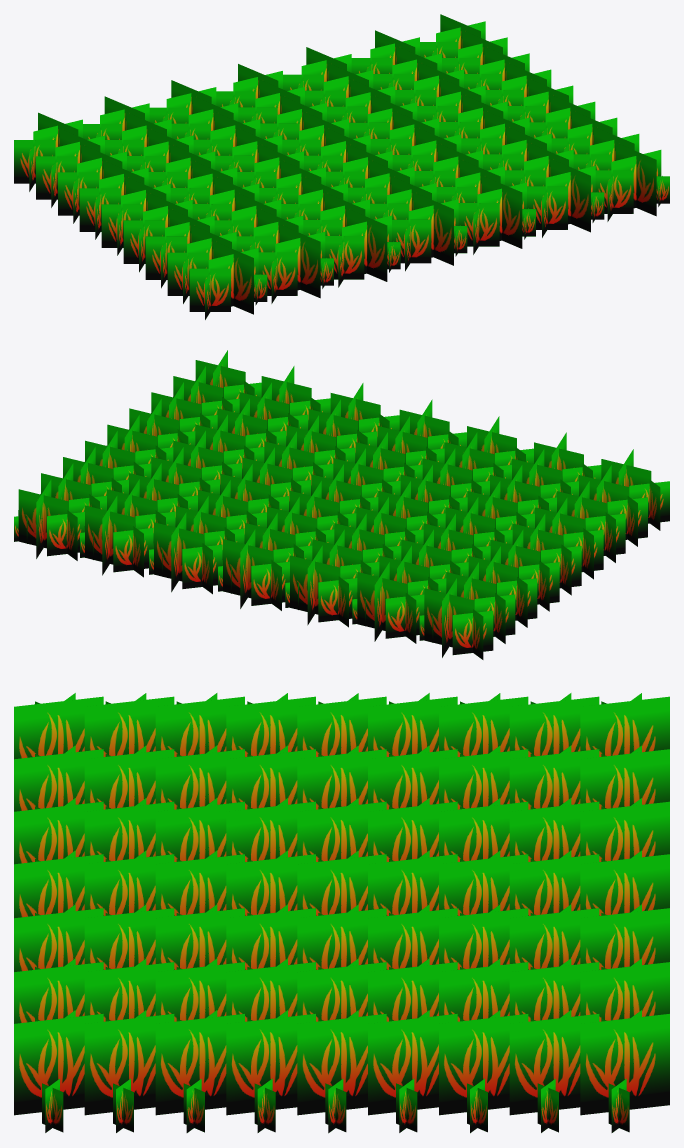
File: 合批_grass_b.FBX
3 renders of one model, top to bottom at view 1: azimuth 30°, elevation 25°; view 2: azimuth 150°, elevation 25°; view 3: azimuth 270°, elevation 25°, orthographic. The views are drawn at different scales.
Parts seen in each view (by area): view 1: mod_grass_b004; view 2: mod_grass_b004; view 3: mod_grass_b004.
Boxes of the visible parts, x1,y1,x2,y2 form: mod_grass_b004: (14,14,669,319); mod_grass_b004: (14,350,669,659); mod_grass_b004: (14,693,669,1133).
Bounding box in the file's own units: 5.4 × 0.6259 × 4.04.
